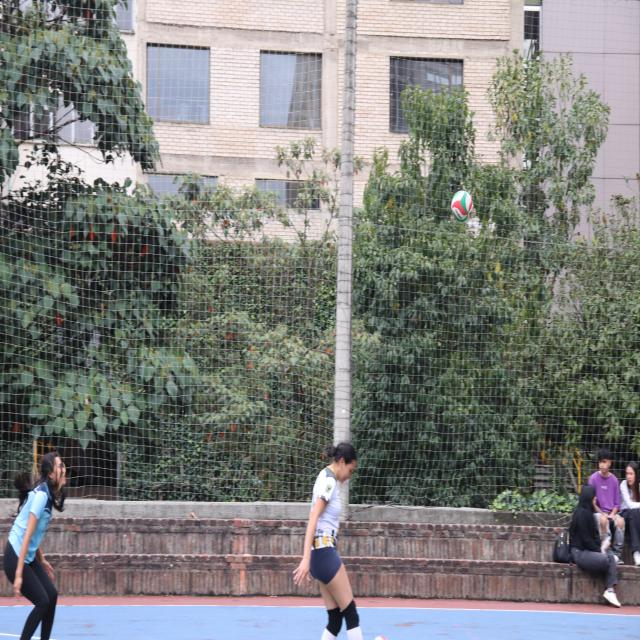volleyball: (452, 188, 474, 222)
